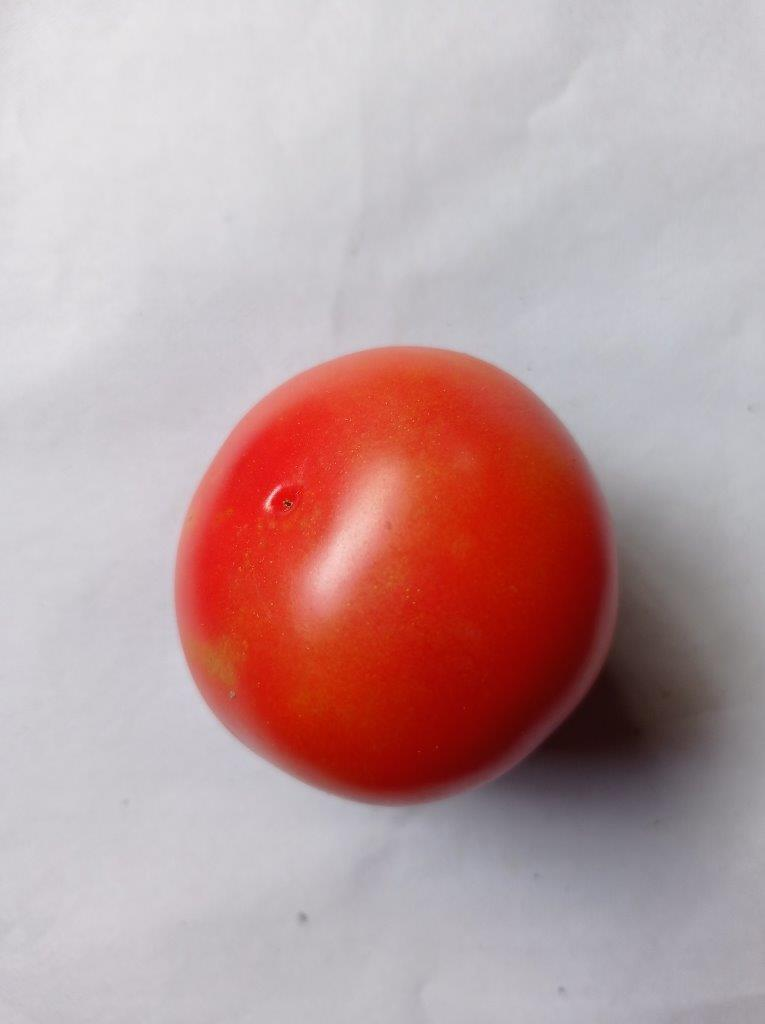tomato: (175, 348, 616, 801)
